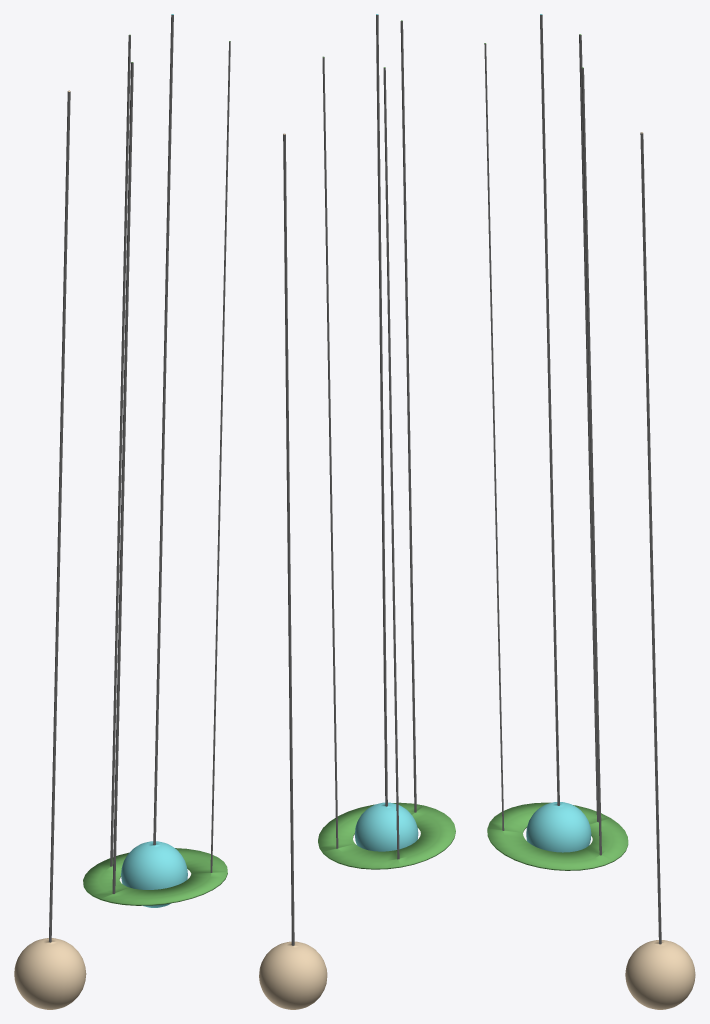
The model's file is Planet5.fbx.
3 renders of one model, left to right at view 1: azimuth 90°, elevation 25°; view 2: azimuth 150°, elevation 25°; view 3: azimuth 270°, elevation 25°, orthographic. The views are drawn at different scales.
Visible parts, largest first — view 1: Cylinder.024; view 2: Cylinder.024; view 3: Cylinder.024.
Boxes of the visible parts, x1,y1,x2,y2 form: Cylinder.024: (14,14,230,1009); Cylinder.024: (259,14,455,1009); Cylinder.024: (484,14,695,1009).
Size of the model in its own units: 14425 by 98914 by 19334.
